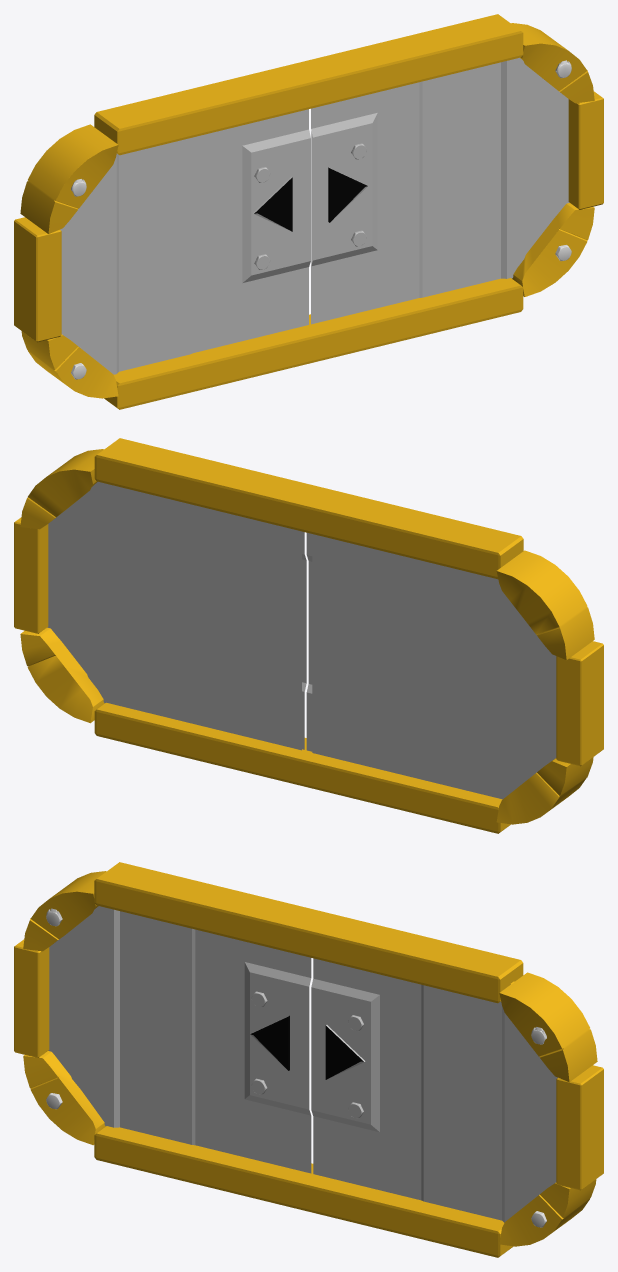
File: Gate.fbx
3 views of the same model, one above another, from view 1: azimuth 30°, elevation 25°; view 2: azimuth 150°, elevation 25°; view 3: azimuth 330°, elevation 25° (orthographic).
Parts seen in each view (by area): view 1: Door2, Door1, Gate.001, Cube.005, Cube.004, Cube.016, Cube.007; view 2: Door2, Door1, Gate.001, Cube.005, Cube.004; view 3: Door1, Door2, Gate.001, Cube.005, Cube.004, Cube.016, Cube.007.
Part boxes in pixels (x1,y1,x2,y2): Door2: (311,57,569,324); Door1: (60,109,310,374); Gate.001: (94,14,523,409); Cube.005: (20,23,594,398); Cube.004: (14,91,603,342); Cube.016: (328,167,367,222); Cube.007: (253,176,292,231); Door2: (47,481,306,750); Door1: (306,532,556,799); Gate.001: (94,438,523,833); Cube.005: (20,449,594,824); Cube.004: (14,517,603,766); Door1: (48,906,311,1173); Door2: (311,958,557,1222); Gate.001: (94,862,523,1257); Cube.005: (23,871,597,1246); Cube.004: (14,939,603,1190); Cube.016: (325,1025,365,1079); Cube.007: (250,1015,289,1070).
Size of the model in its own units: 2311 by 1093 by 204.
